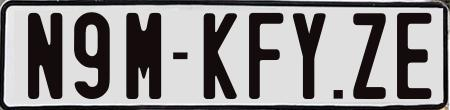9: (71, 11, 113, 104)
E: (395, 12, 433, 98)
F: (247, 11, 282, 102)
K: (201, 10, 235, 102)
M: (126, 10, 164, 100)
N: (25, 10, 65, 96)
Y: (293, 10, 332, 99)
Z: (350, 11, 387, 97)
